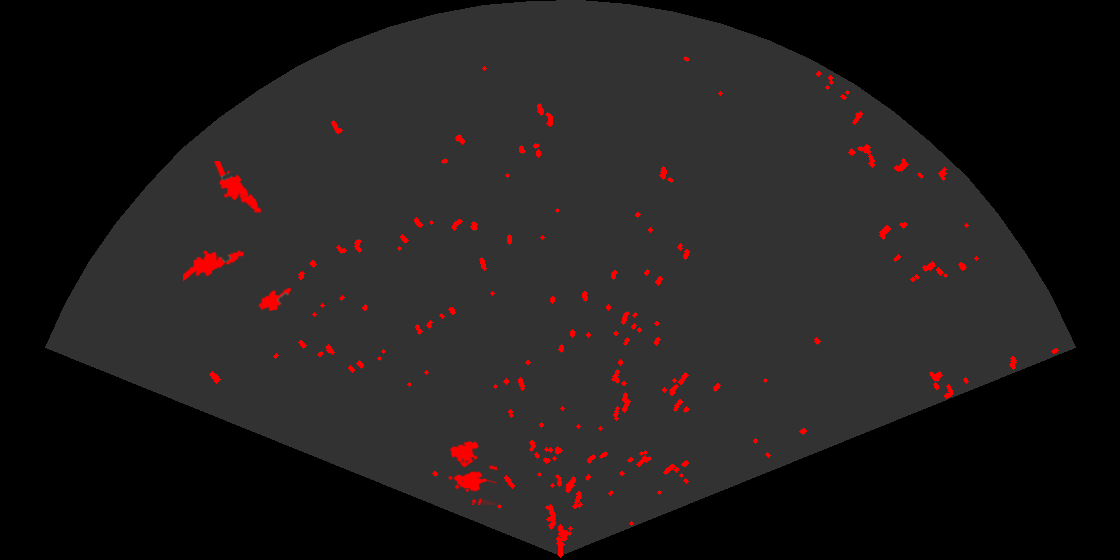AUV: (257, 286, 293, 313)
cage: (446, 439, 497, 505)
frogman: (212, 161, 265, 225), (183, 249, 246, 283)
